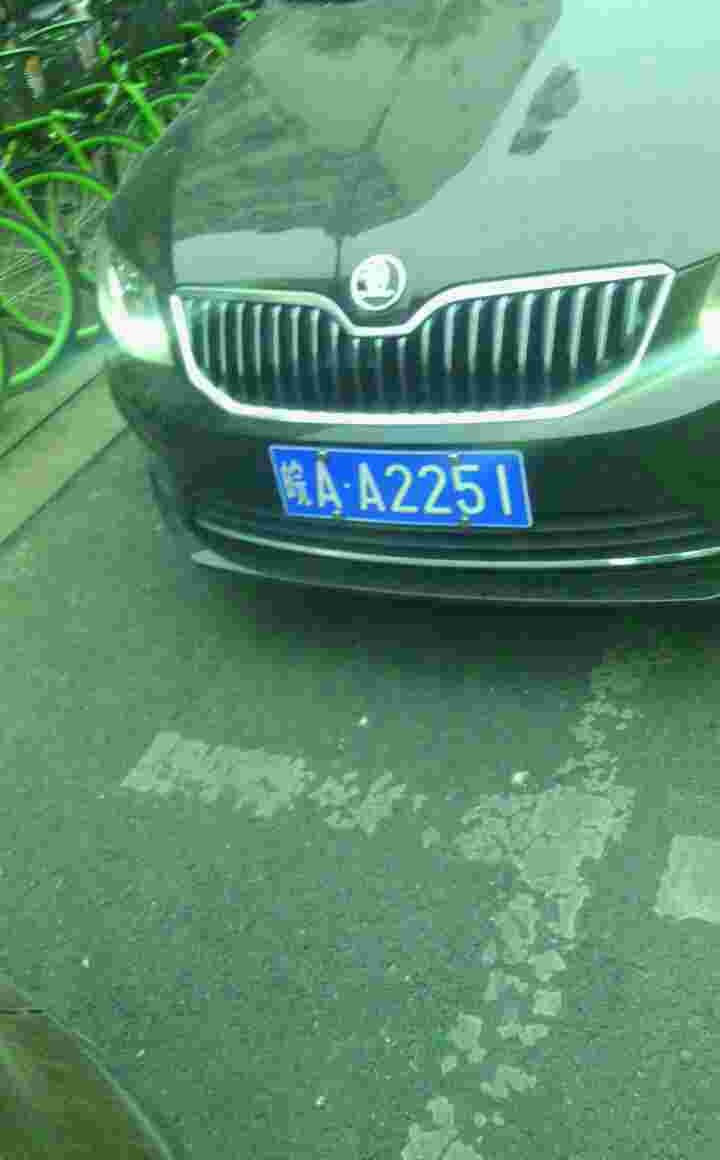license_plate: (261, 455, 529, 525)
